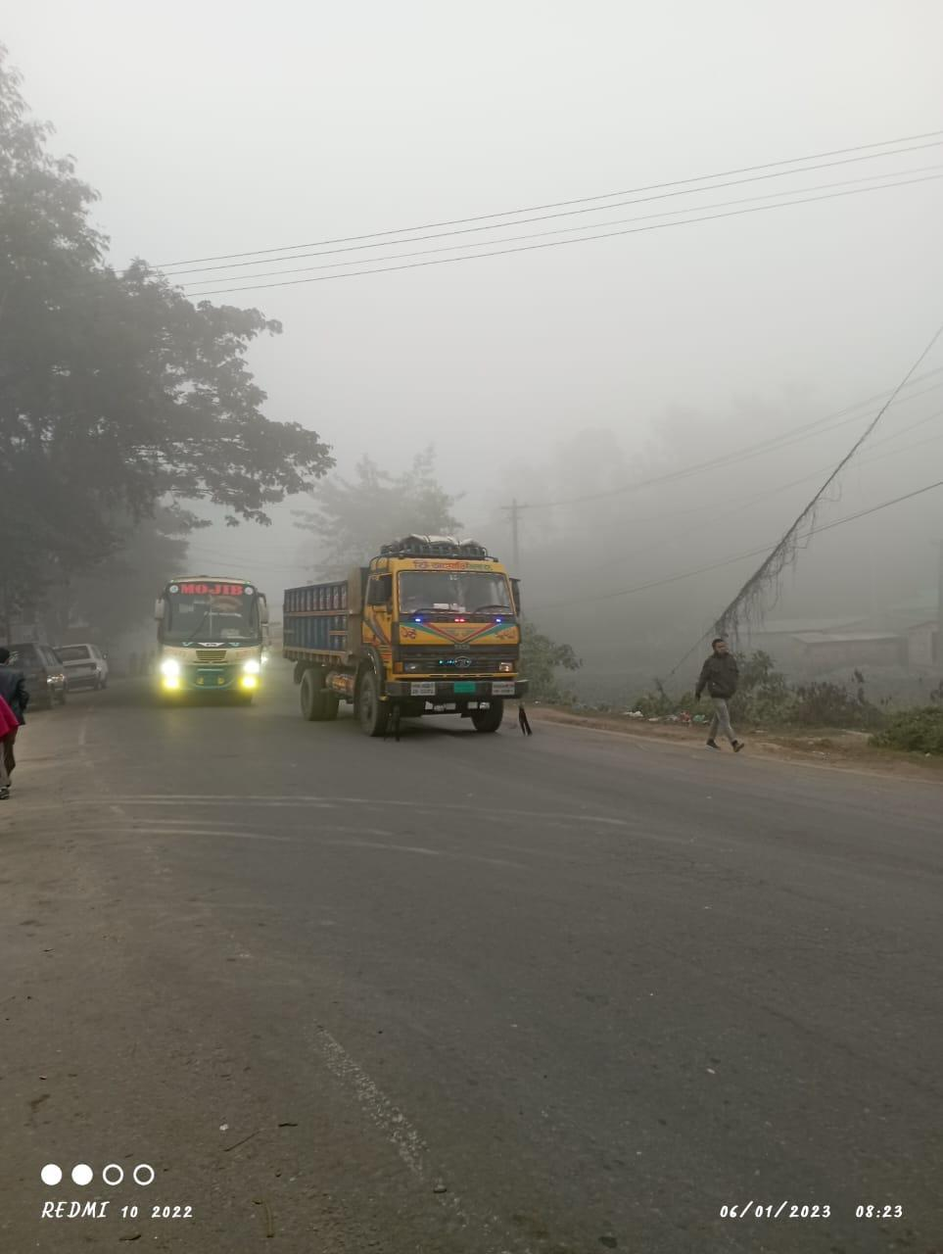Bus: (149, 573, 274, 712)
Car: (10, 632, 74, 712), (51, 630, 110, 690)
Truck: (274, 536, 534, 742)
